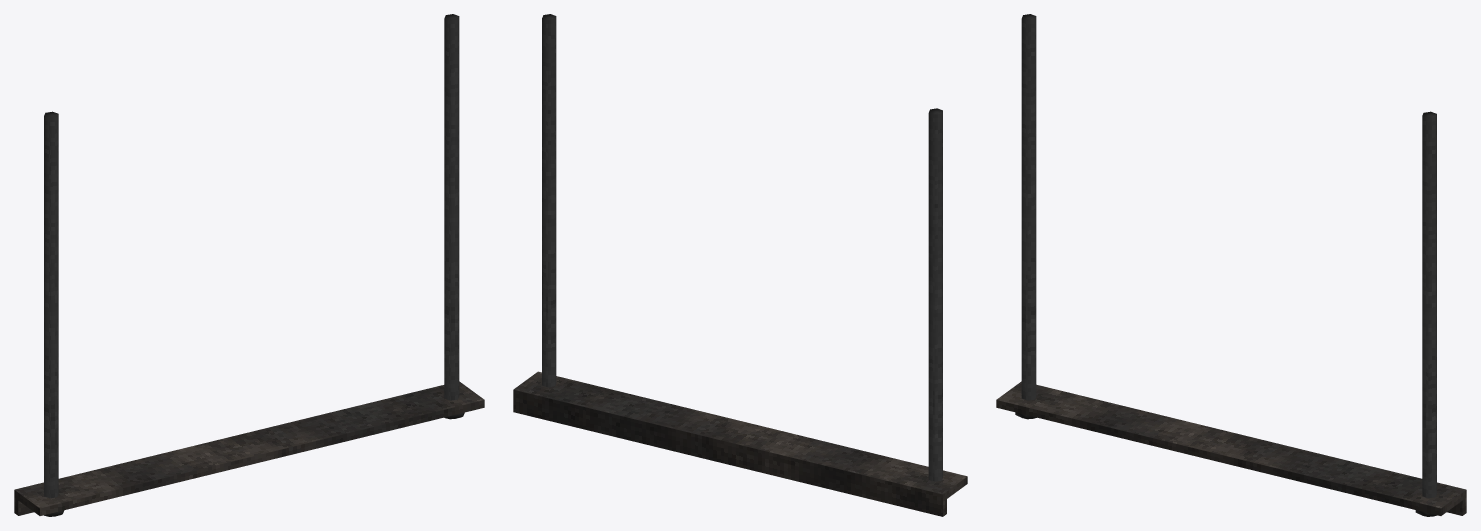
File: pipes_holder_1.glb
The picture shows the model from 3 angles, left to right: view 1: azimuth 30°, elevation 25°; view 2: azimuth 150°, elevation 25°; view 3: azimuth 330°, elevation 25°; orthographic projection. The views are drawn at different scales.
Visible parts, largest first — view 1: pipes_holder_1; view 2: pipes_holder_1; view 3: pipes_holder_1.
Boxes of the visible parts, left/top/right/bottom form: pipes_holder_1: left=14, top=14, right=484, bottom=516; pipes_holder_1: left=513, top=14, right=967, bottom=516; pipes_holder_1: left=996, top=14, right=1466, bottom=516.
Size of the model in its own units: 0.6 by 0.52 by 0.06.
2 materials, 2 textured.
